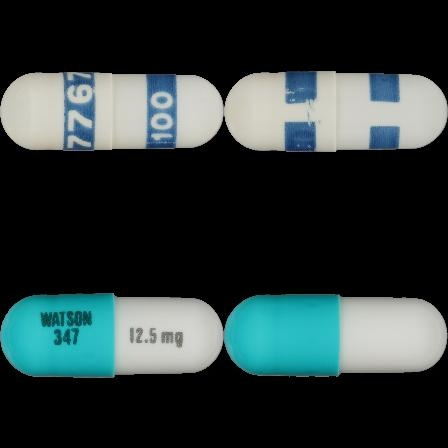49999-383: (0, 0, 224, 224)
